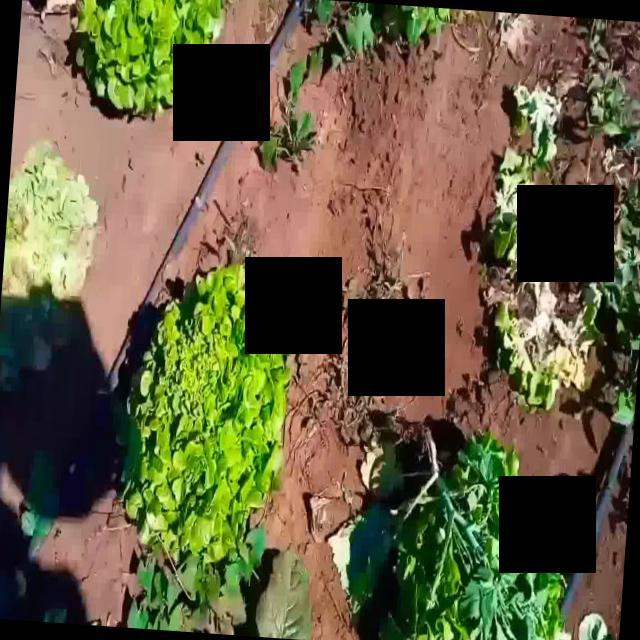Lettuce: (117, 254, 289, 562), (62, 0, 228, 118)
